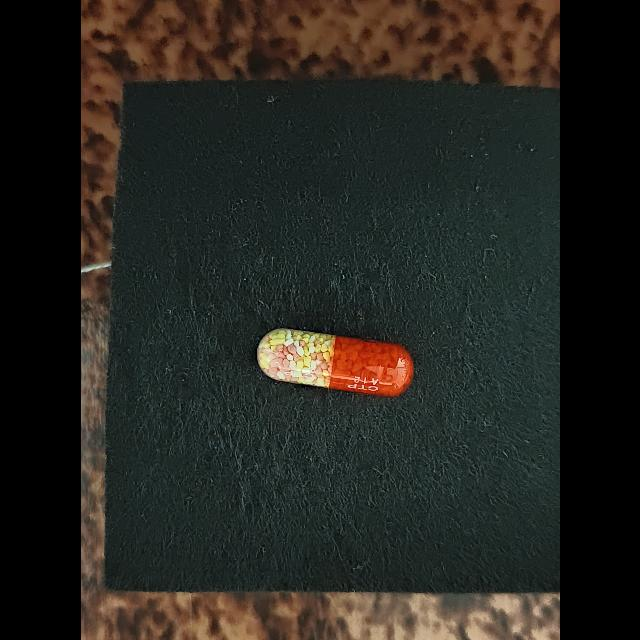Intact Capsule: (256, 328, 414, 396)
